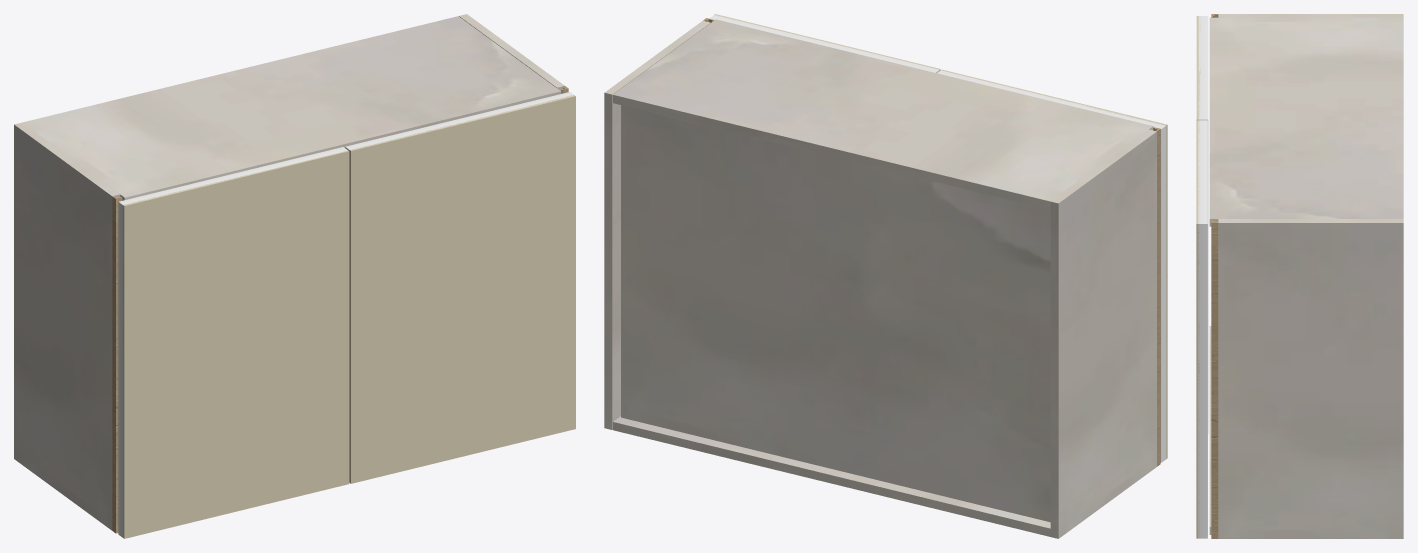
Rendered from WALL LOFT CABINET 1 SHELF (H600xW850xD336) WLC1S2HS.glb.
3 views of the same model, side by side, from view 1: azimuth 30°, elevation 25°; view 2: azimuth 150°, elevation 25°; view 3: azimuth 270°, elevation 25° (orthographic). The views are drawn at different scales.
Size of what is drawn, in the model's own units: 0.85 by 0.6 by 0.3569.
Materials: 6 (2 with a texture image).
